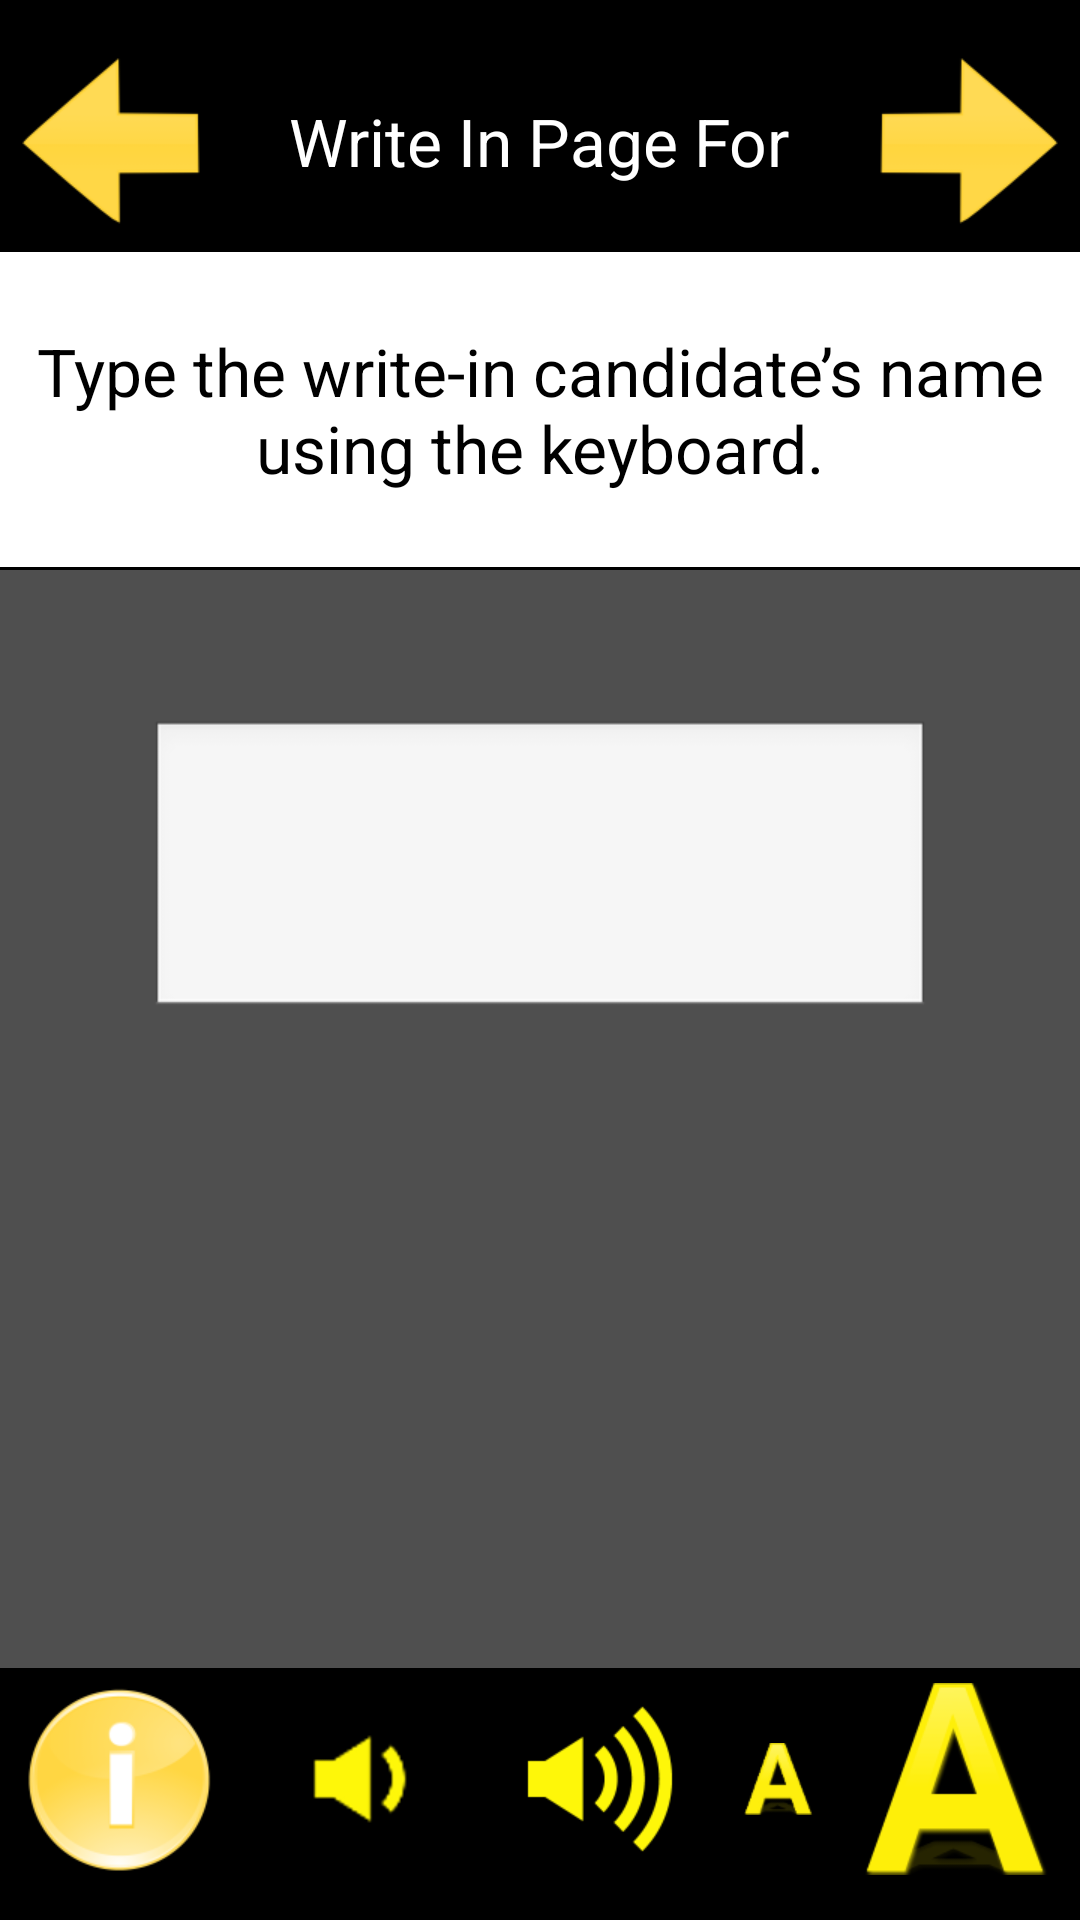

Icon click points for this 1080 x 1920 phone screenshot, format (x=x, y=y):
help: (x=119, y=1780)
next: (x=969, y=141)
previous: (x=111, y=141)
vol dec: (x=360, y=1779)
vol inc: (x=600, y=1779)
